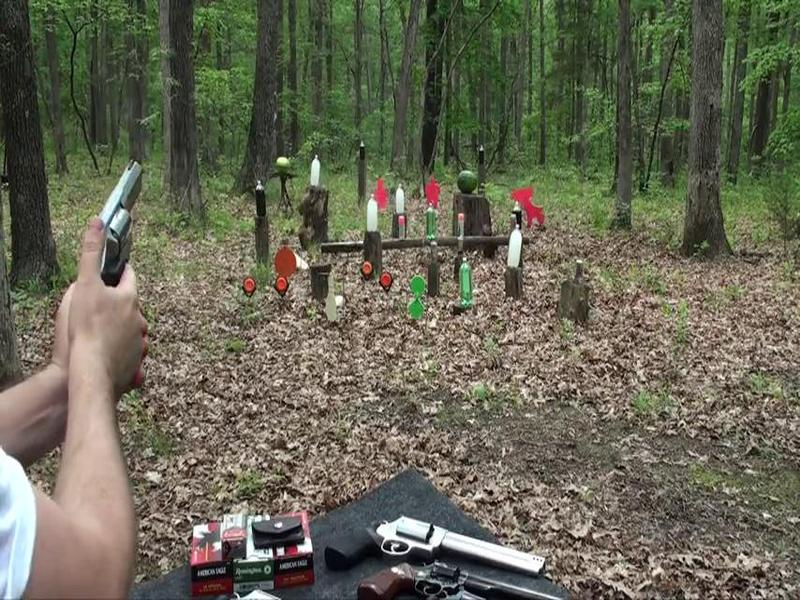Revolver: (72, 131, 168, 361)
